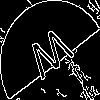W: (25, 25, 80, 89)
